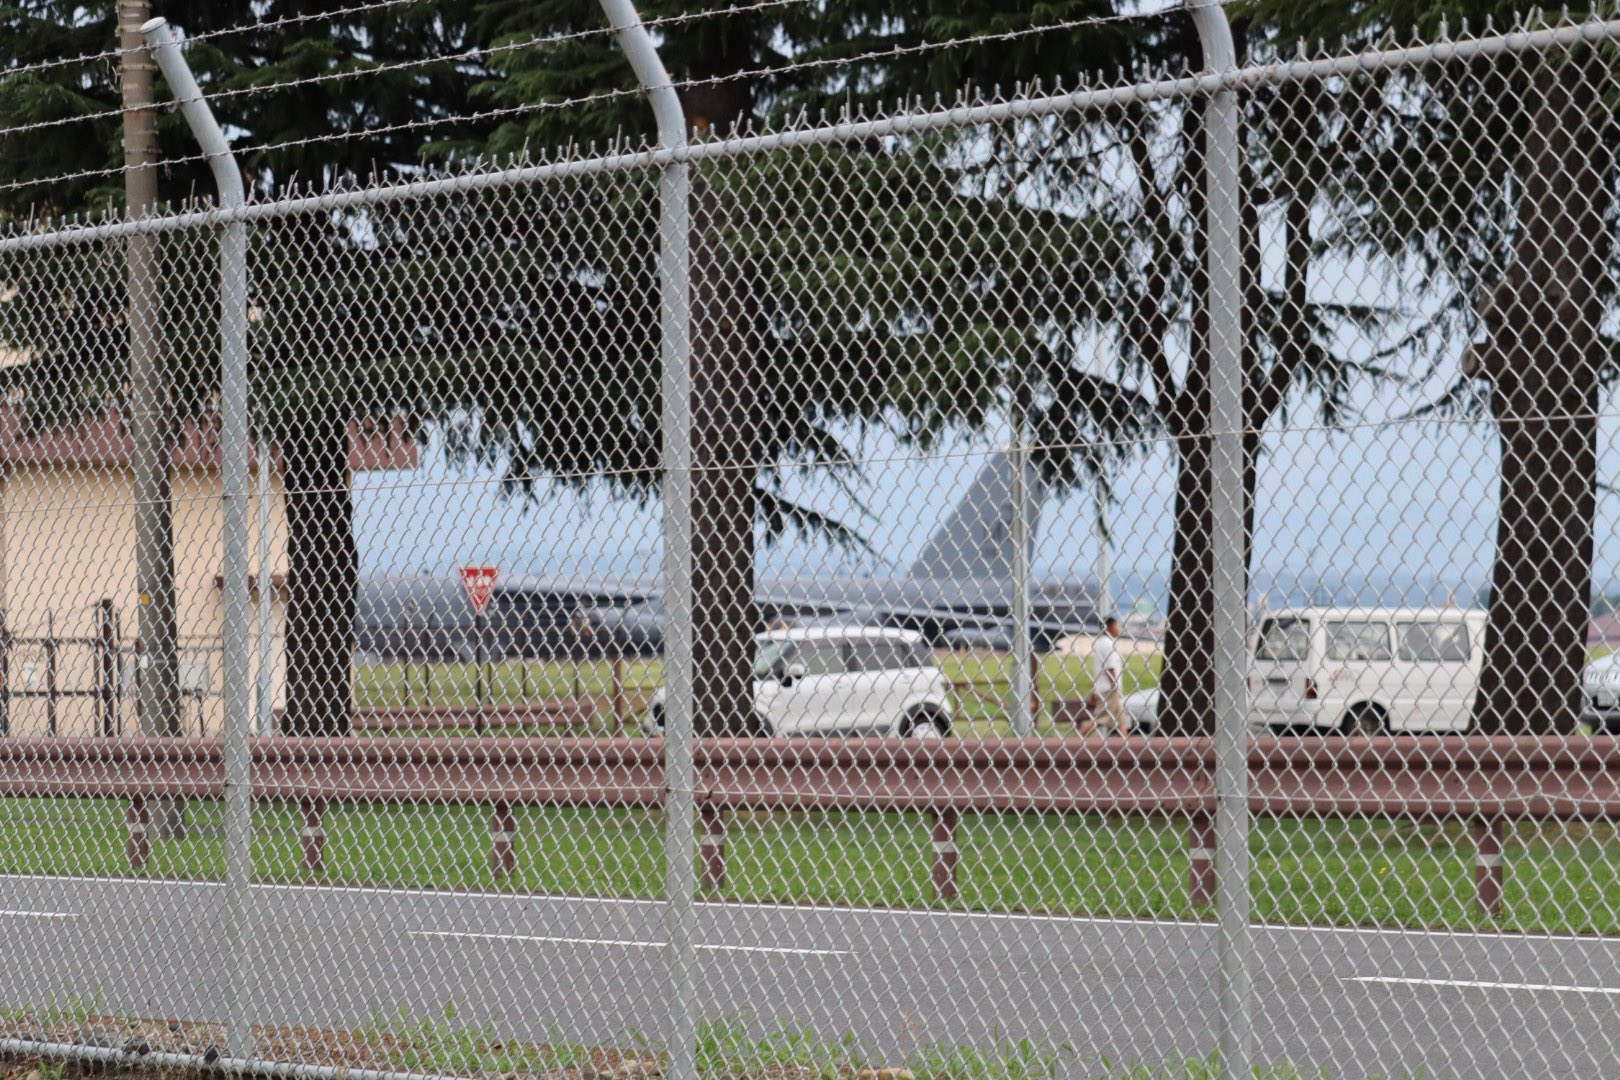B52: (356, 441, 1166, 665)
